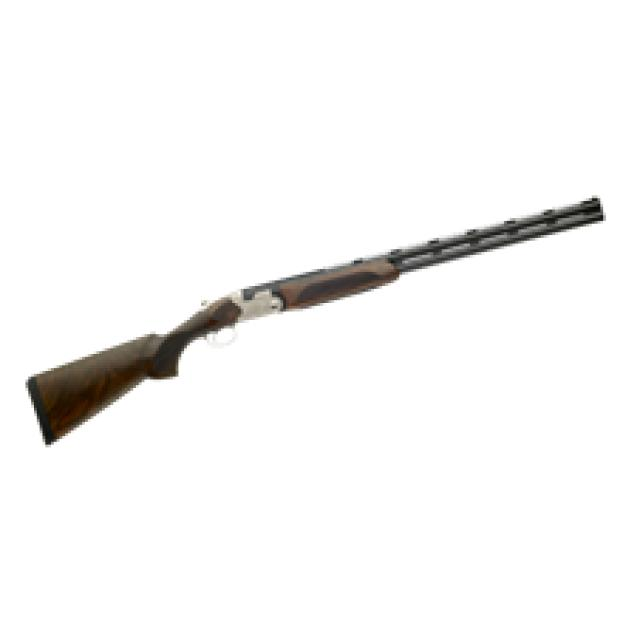rifle: (18, 192, 611, 458)
